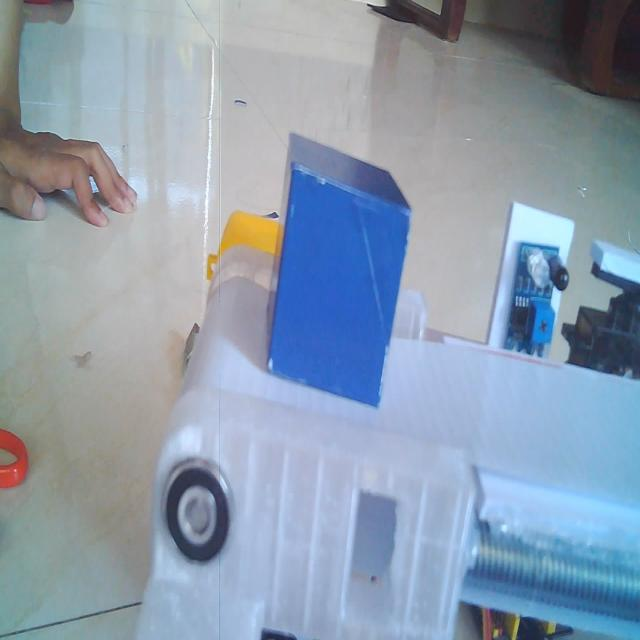blue: (265, 125, 416, 412)
